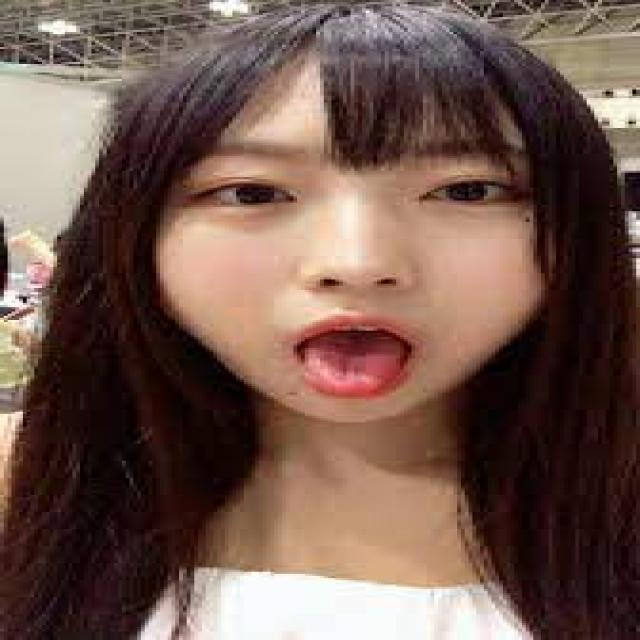tongue: (302, 342, 410, 394)
